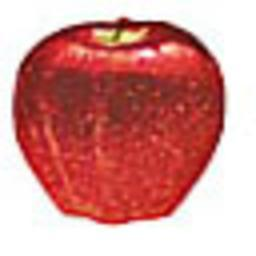apple: (10, 20, 226, 224)
